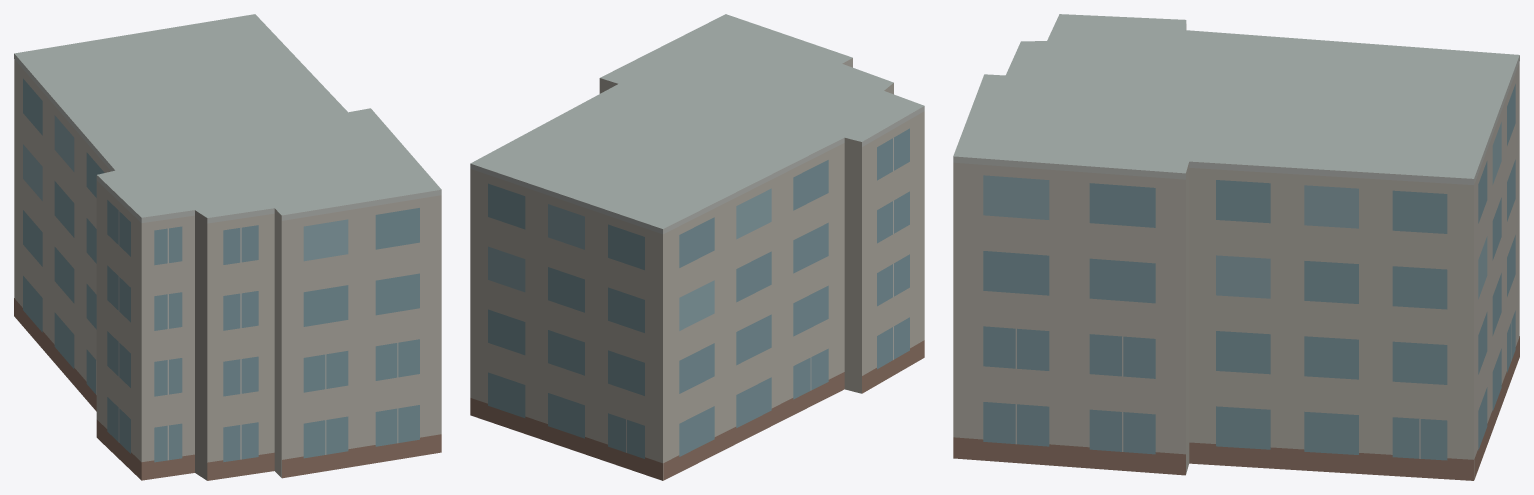
Rendered from survey-upis-32983849.glb.
3 renders of one model, left to right at view 1: azimuth 30°, elevation 25°; view 2: azimuth 150°, elevation 25°; view 3: azimuth 270°, elevation 25°, orthographic. The views are drawn at different scales.
Visible parts, largest first — view 1: survey-upis-32983849.tmp; view 2: survey-upis-32983849.tmp; view 3: survey-upis-32983849.tmp.
Boxes of the visible parts, <box> form: survey-upis-32983849.tmp: <box>14,14,441,480</box>; survey-upis-32983849.tmp: <box>470,14,924,480</box>; survey-upis-32983849.tmp: <box>953,14,1519,480</box>.
Size of the model in its own units: 13.77 by 11.75 by 19.99.
